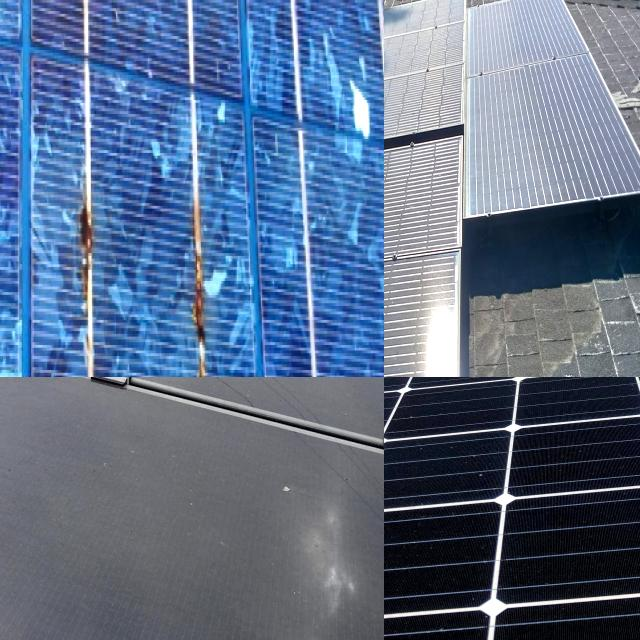dust: (384, 435, 640, 559), (251, 460, 370, 640), (0, 396, 55, 569), (384, 182, 431, 324), (521, 595, 640, 640), (384, 35, 424, 156), (384, 131, 413, 269), (384, 609, 478, 640)
shadow: (42, 108, 120, 302), (185, 189, 242, 377)
